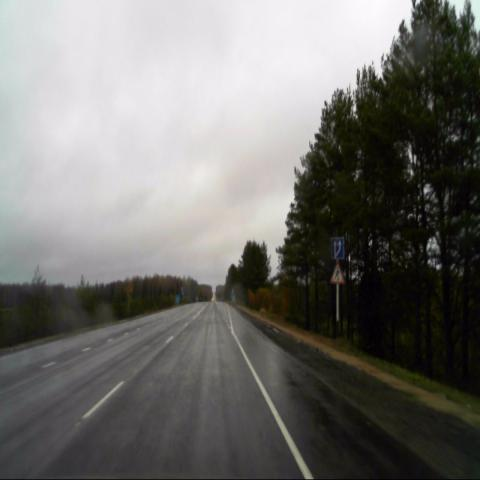1_22: (330, 262, 344, 285)
